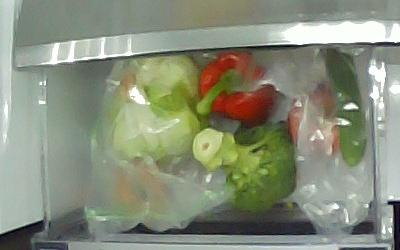apple_vinyl: (288, 84, 340, 158)
broccoli: (193, 121, 298, 211)
cucumber_vinyl: (319, 47, 366, 167)
lettuce_vinyl: (108, 53, 210, 163)
paprika_vinyl: (196, 49, 275, 128)
peach_vinyl: (116, 164, 164, 204)
